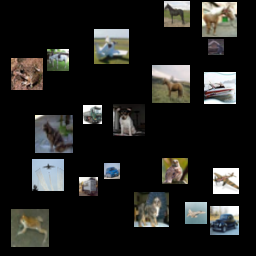automobile: (196, 128, 234, 166), (27, 102, 65, 140)
bird: (4, 39, 26, 61), (39, 203, 58, 222)
cat: (62, 161, 84, 183)
deer: (174, 214, 212, 252), (111, 194, 143, 226)
dog: (11, 2, 43, 34), (176, 89, 208, 121), (185, 59, 214, 88), (142, 25, 171, 54), (82, 92, 104, 114)
frog: (136, 141, 155, 160), (118, 33, 137, 52), (168, 186, 184, 202)
ship: (76, 207, 92, 223)
